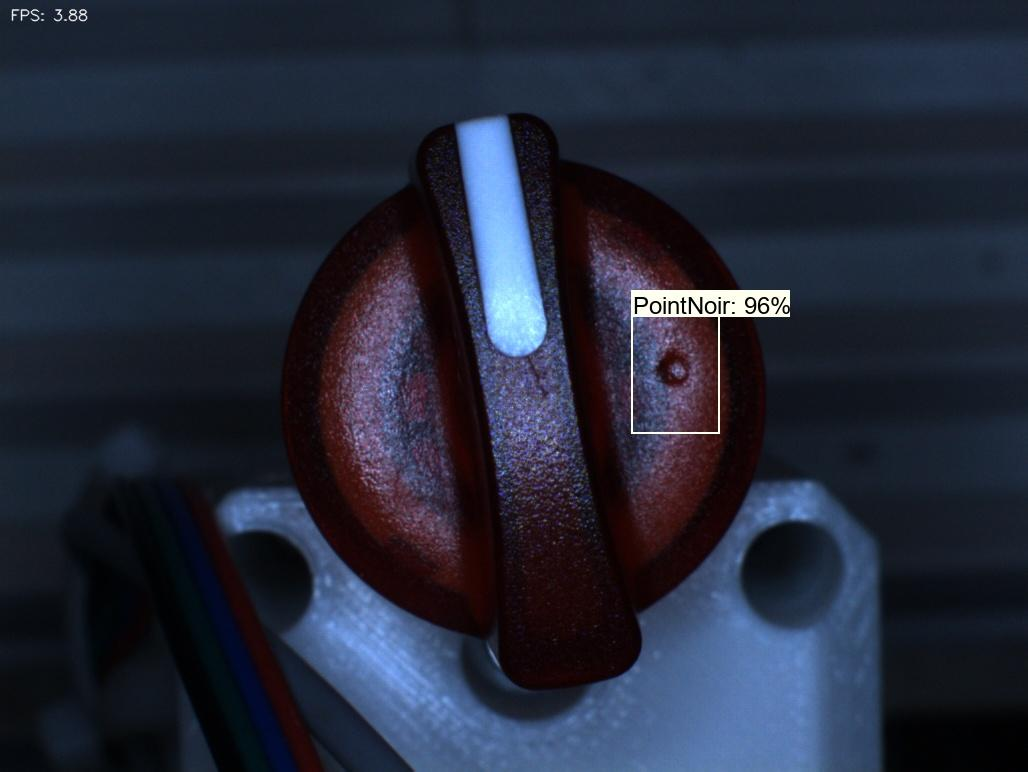Choc: (639, 324, 716, 415)
